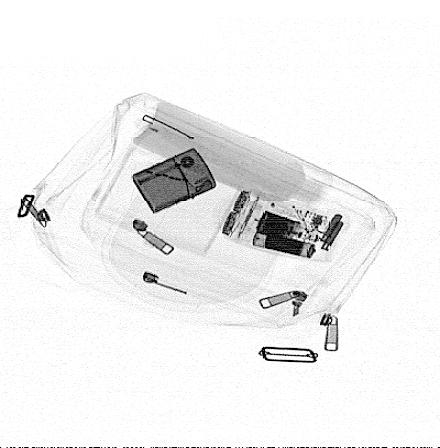Lighter: (132, 147, 217, 214)
